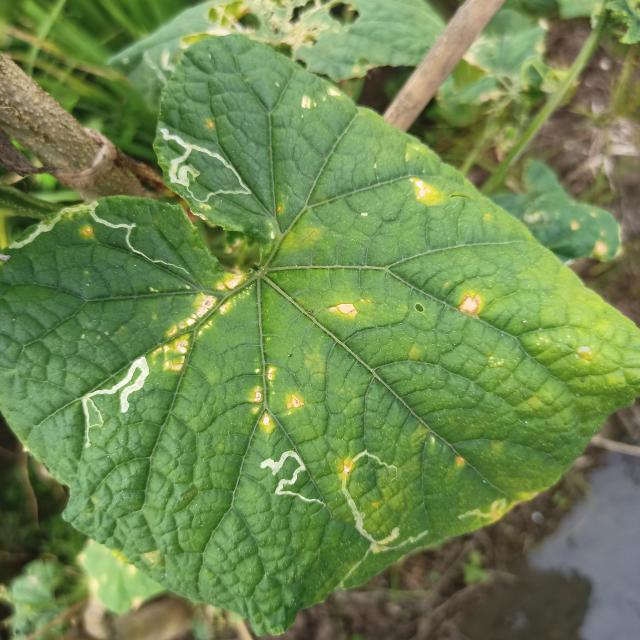disease_cucumber: (150, 270, 252, 378), (245, 360, 309, 435), (298, 85, 344, 112), (406, 173, 443, 206), (328, 293, 363, 325), (452, 292, 486, 316), (78, 225, 94, 239)
